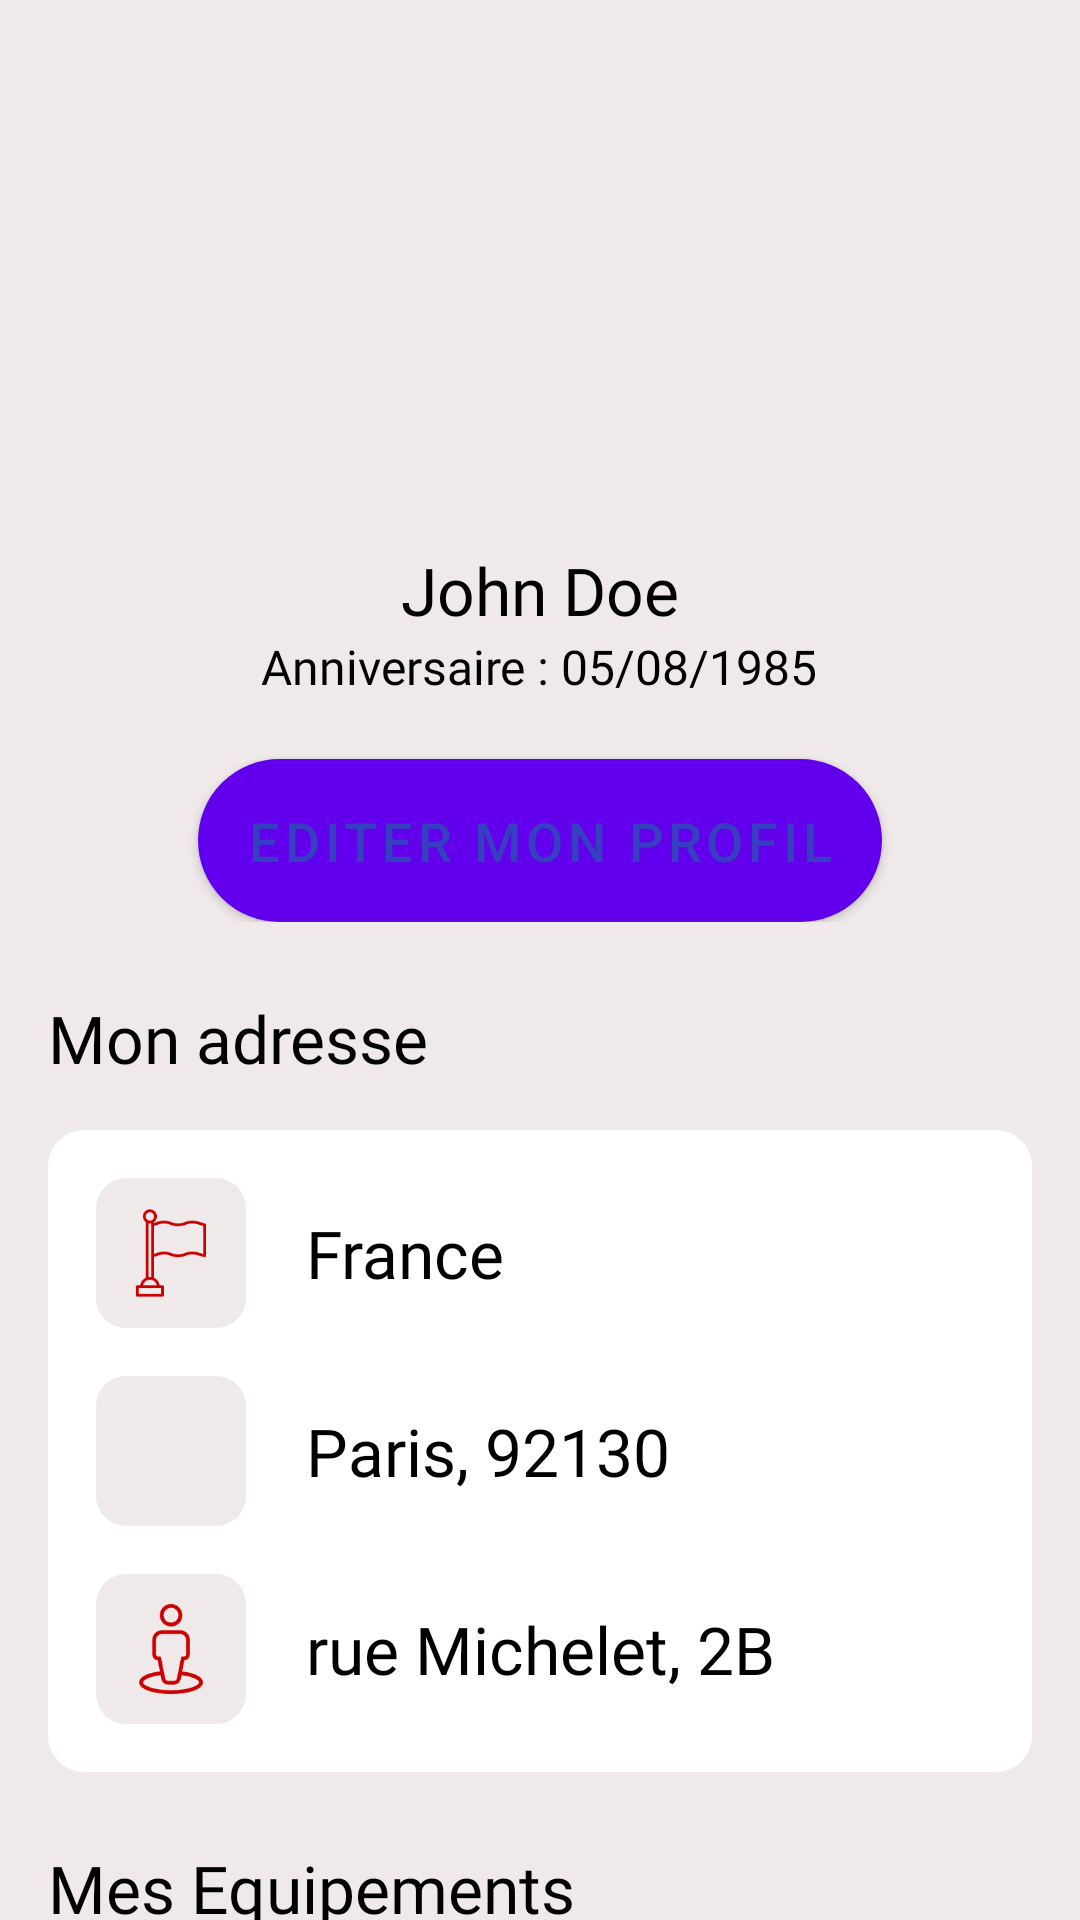

Where icons sit on this 1080w x 1920h app screen, as rect(x1, y1, x2, y2):
country: rect(96, 1178, 246, 1328)
street: rect(96, 1574, 246, 1724)
